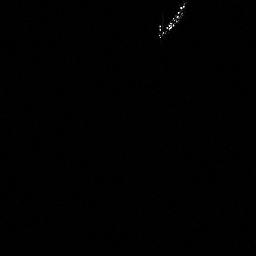ship: (154, 1, 189, 42)
